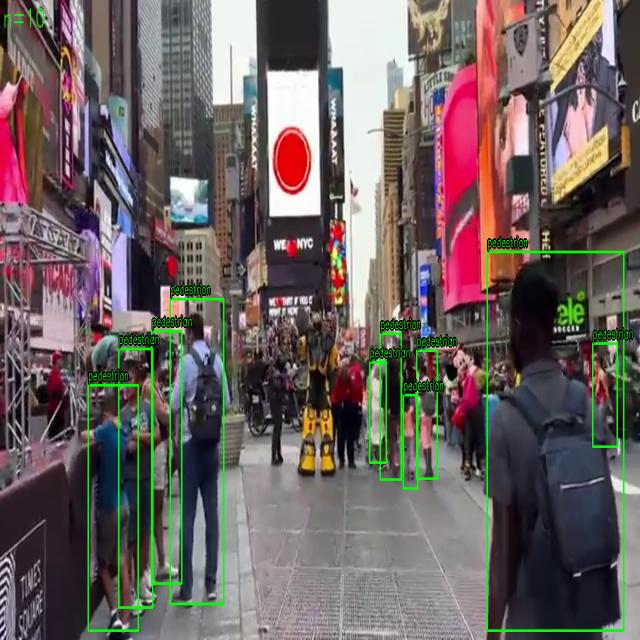with scooter: (487, 252, 624, 631), (170, 298, 224, 604), (88, 385, 138, 631), (119, 348, 153, 608), (152, 331, 182, 584), (380, 333, 402, 480), (417, 350, 438, 479), (592, 343, 618, 447), (369, 362, 386, 463), (403, 395, 418, 489)
